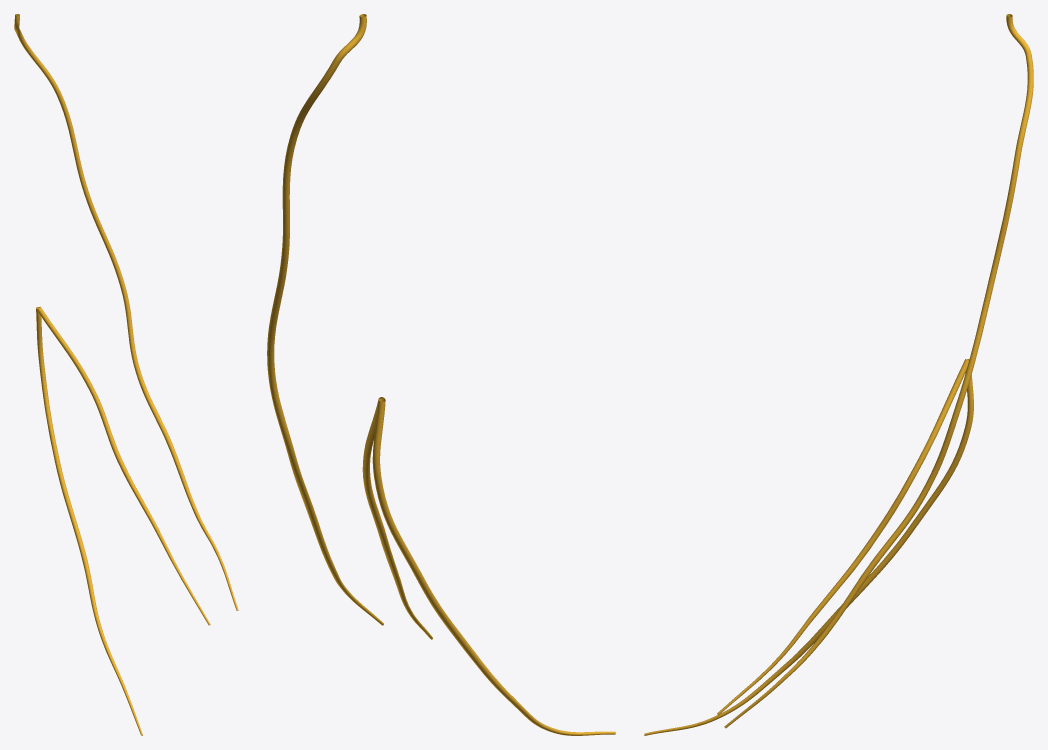
Rendered from nervoso-proper-palmar-digital-branches-of-ulnar-nerve-r.glb.
The picture shows the model from 3 angles, left to right: view 1: azimuth 30°, elevation 25°; view 2: azimuth 150°, elevation 25°; view 3: azimuth 270°, elevation 25°; orthographic projection. The views are drawn at different scales.
Visible parts, largest first — view 1: Proper palmar digital branches of ulnar nerve.r; view 2: Proper palmar digital branches of ulnar nerve.r; view 3: Proper palmar digital branches of ulnar nerve.r.
Boxes of the visible parts, x1,y1,x2,y2 form: Proper palmar digital branches of ulnar nerve.r: [14, 14, 238, 735]; Proper palmar digital branches of ulnar nerve.r: [267, 14, 615, 735]; Proper palmar digital branches of ulnar nerve.r: [644, 14, 1033, 735].
Size of the model in its own units: 0.0303 by 0.1306 by 0.0627.
